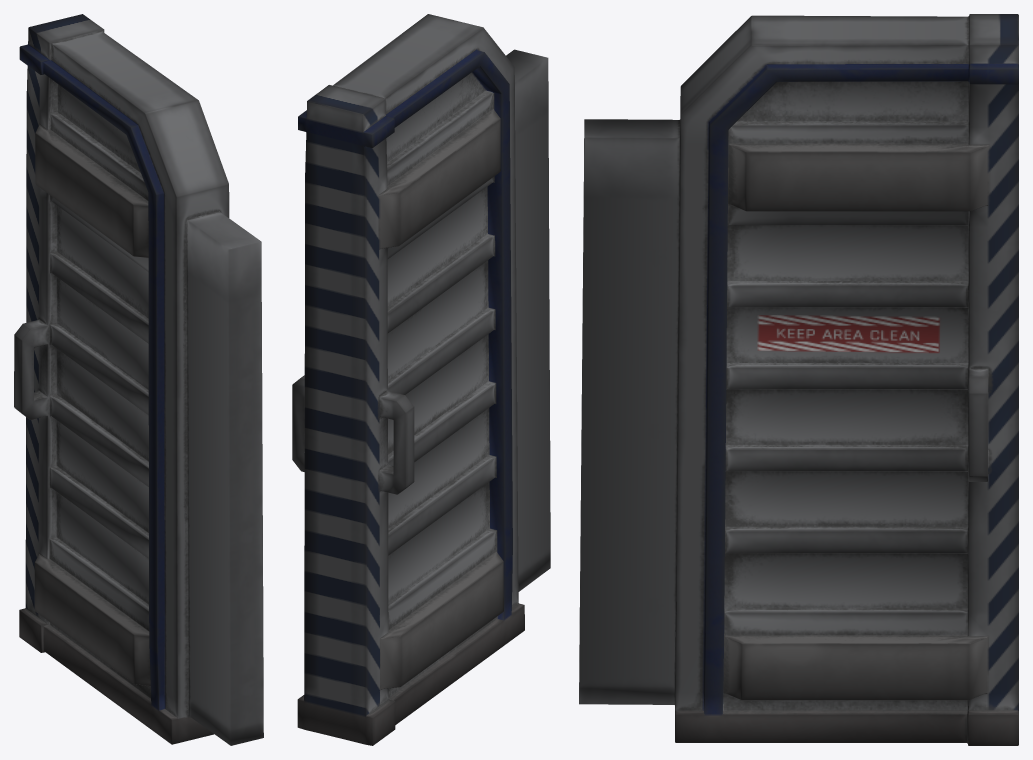
File: door.gltf
3 views of the same model, side by side, from view 1: azimuth 30°, elevation 25°; view 2: azimuth 150°, elevation 25°; view 3: azimuth 270°, elevation 25° (orthographic). The views are drawn at different scales.
Visible parts, largest first — view 1: door; view 2: door; view 3: door.
Boxes of the visible parts, box(x1,y1,x2,y2) form: door: box(14, 14, 263, 745); door: box(292, 14, 550, 745); door: box(579, 14, 1018, 745).
Size of the model in its own units: 0.3684 by 1.94 by 1.11.
Materials: 1 (1 with a texture image).
